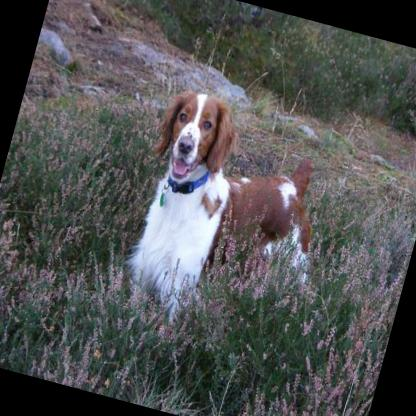Welsh_springer_spaniel: (110, 81, 346, 349)
